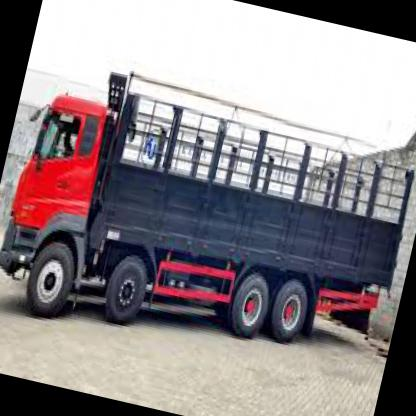truck: (1, 85, 123, 327)
